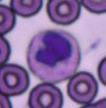N: (26, 29, 81, 82)
